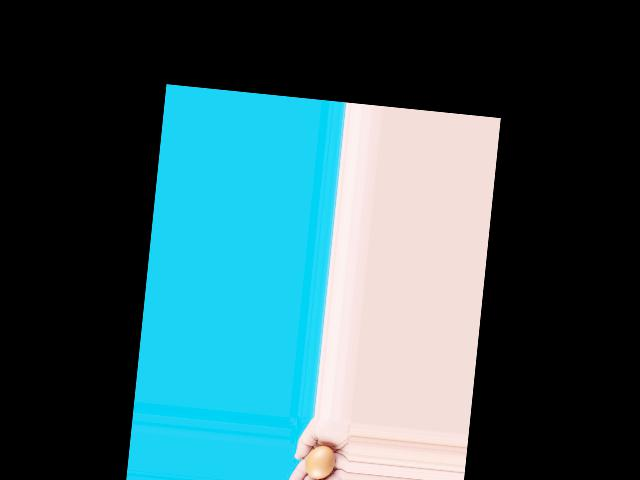egg: (304, 444, 335, 480)
